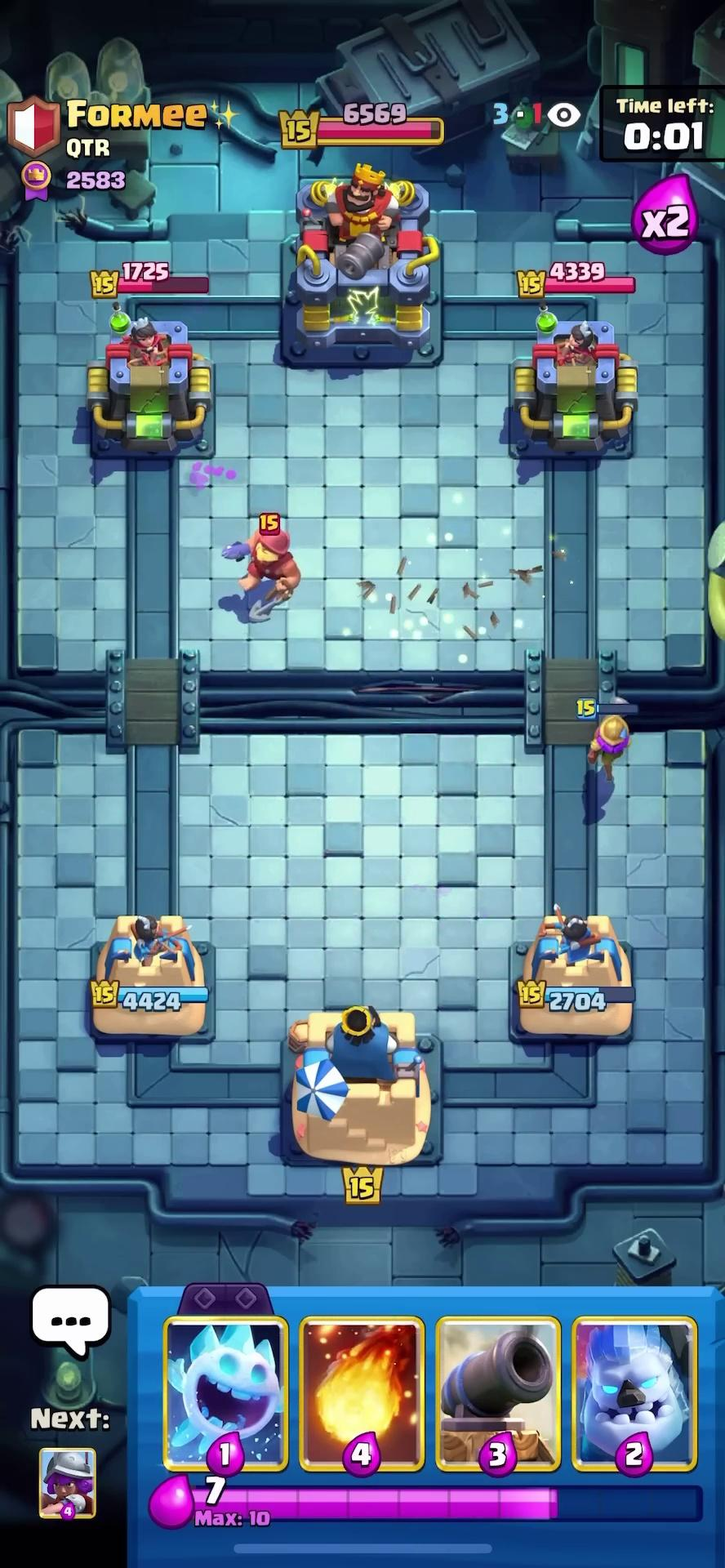musketeer: (572, 690, 643, 768)
